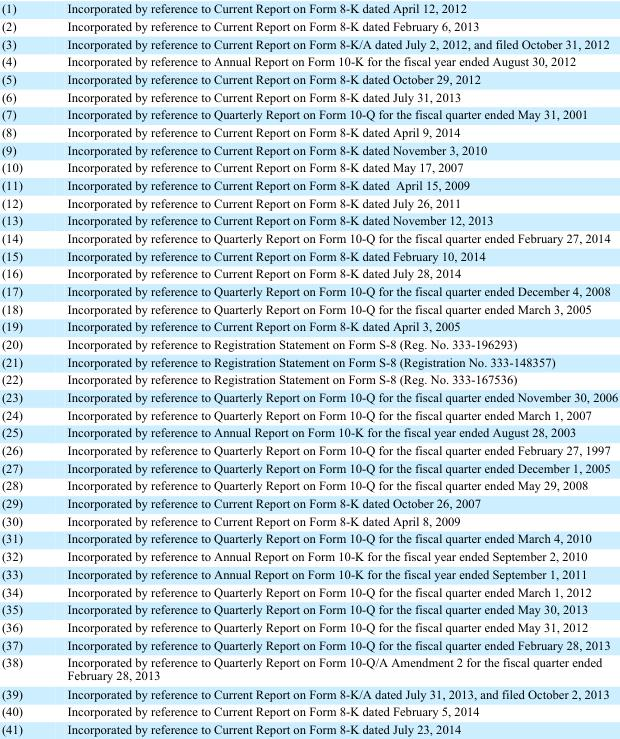table: (0, 0, 617, 735)
table column: (44, 0, 617, 735), (0, 0, 44, 735)
table row: (0, 653, 617, 684), (0, 16, 617, 34), (0, 34, 617, 52), (0, 69, 617, 87), (0, 87, 617, 105), (0, 122, 617, 140), (0, 140, 617, 158), (0, 175, 617, 193), (0, 193, 617, 211), (0, 228, 617, 246), (0, 246, 617, 264), (0, 281, 617, 299), (0, 299, 617, 317), (0, 334, 617, 352), (0, 352, 617, 370), (0, 387, 617, 405), (0, 405, 617, 423), (0, 440, 617, 458), (0, 458, 617, 476), (0, 476, 617, 494), (0, 511, 617, 529), (0, 529, 617, 547), (0, 564, 617, 582), (0, 582, 617, 600), (0, 617, 617, 635), (0, 635, 617, 653), (0, 684, 617, 702), (0, 702, 617, 720), (0, 52, 617, 69), (0, 105, 617, 122), (0, 158, 617, 175), (0, 211, 617, 228), (0, 264, 617, 281), (0, 317, 617, 334), (0, 370, 617, 387), (0, 423, 617, 440), (0, 494, 617, 511), (0, 547, 617, 564), (0, 600, 617, 617), (0, 0, 617, 16), (0, 720, 617, 735)
